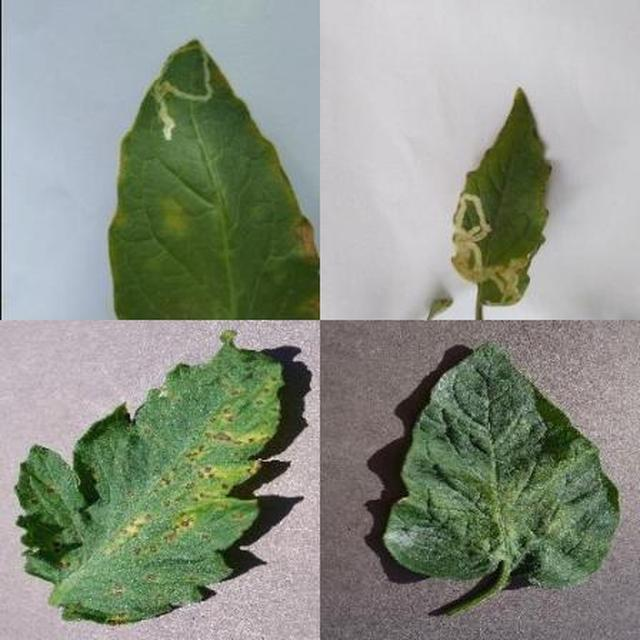Leaf Miner: (153, 253, 640, 640)
